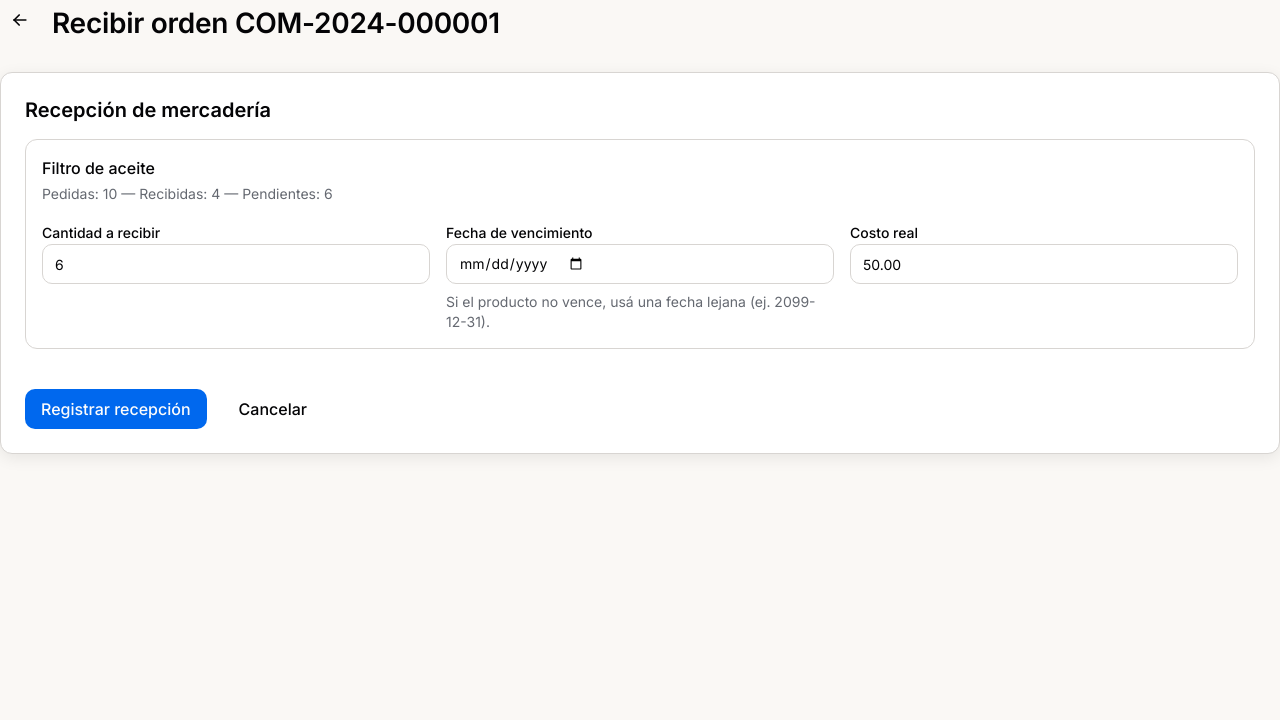
Test: PurchaseOrderReceivePage › shows the mapped error on a PO_RECEIVE_OVERSHOOT 409
The width and height of the screenshot is (1280, 720).
Type "2026-12-31" into the date field labelled "Fecha de vencimiento".
click(640, 264); type("2026-12-31")  # box x1=446 y1=244 x2=834 y2=284
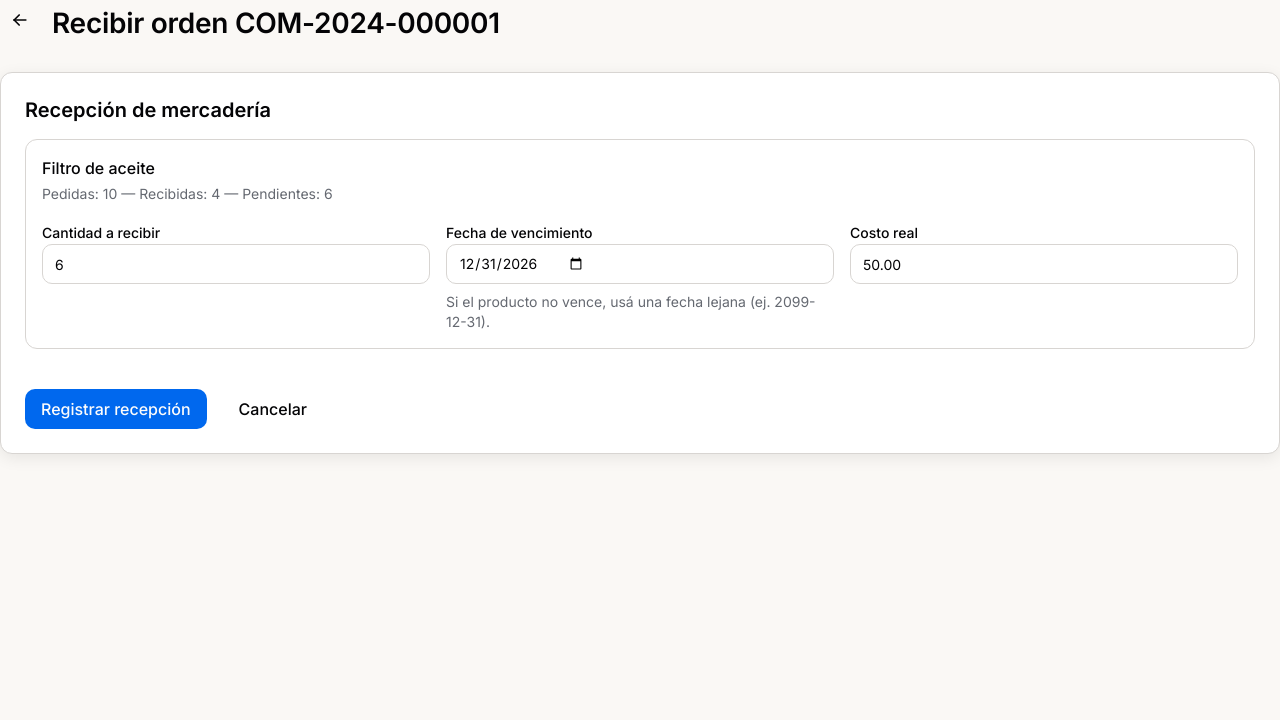
Click the button "Registrar recepción".
click(116, 409)  # box x1=25 y1=389 x2=207 y2=429
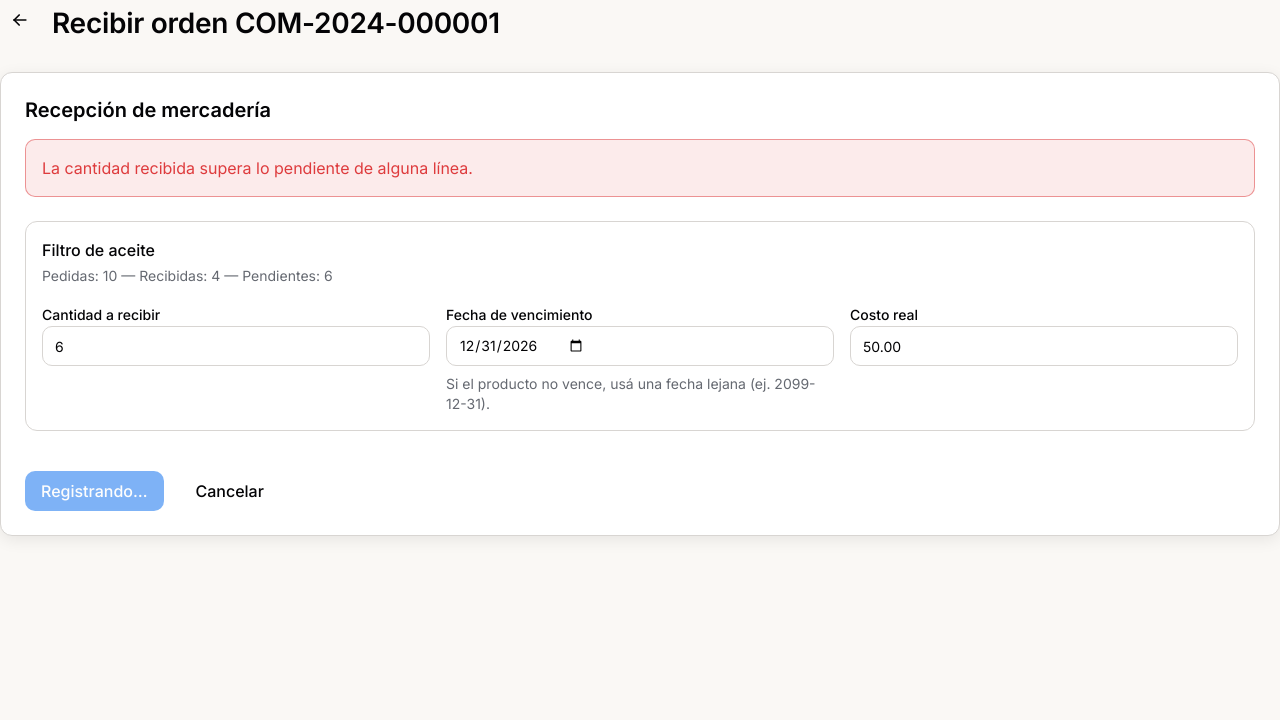
Result: the message reads "La cantidad recibida supera lo pendiente de alguna línea." at x1=42 y1=158 x2=473 y2=178
